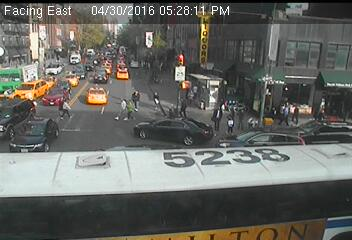neg: (193, 29, 214, 58), (244, 155, 264, 181), (161, 36, 180, 62), (77, 34, 95, 58), (259, 54, 277, 78), (135, 29, 150, 49), (92, 149, 107, 168), (147, 65, 161, 83), (320, 71, 334, 89), (213, 77, 226, 95), (46, 49, 58, 66), (116, 65, 126, 79)
pos: (207, 105, 228, 133), (112, 95, 132, 121), (54, 95, 73, 121), (233, 106, 252, 132), (127, 88, 145, 112), (121, 98, 139, 122), (275, 102, 293, 126), (176, 96, 193, 119), (288, 103, 305, 126)
